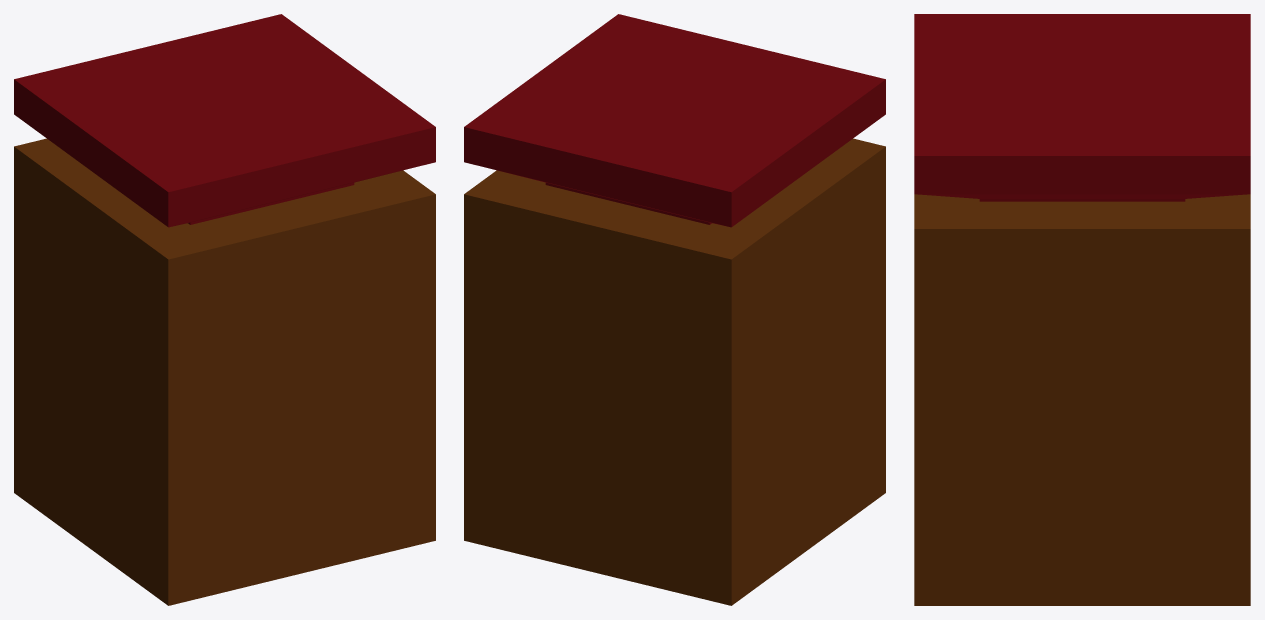
The model's file is Piston.fbx.
The picture shows the model from 3 angles, left to right: view 1: azimuth 30°, elevation 25°; view 2: azimuth 150°, elevation 25°; view 3: azimuth 270°, elevation 25°; orthographic projection. The views are drawn at different scales.
Parts seen in each view (by area): view 1: Cube, Cube.001; view 2: Cube, Cube.001; view 3: Cube, Cube.001.
Boxes of the visible parts, left/top/right/bottom form: Cube: left=14, top=138, right=435, bottom=605; Cube.001: left=14, top=14, right=435, bottom=227; Cube: left=464, top=138, right=885, bottom=605; Cube.001: left=464, top=14, right=885, bottom=227; Cube: left=914, top=194, right=1250, bottom=605; Cube.001: left=914, top=14, right=1250, bottom=201.
Bounding box in the file's own units: 200 × 296 × 200.
